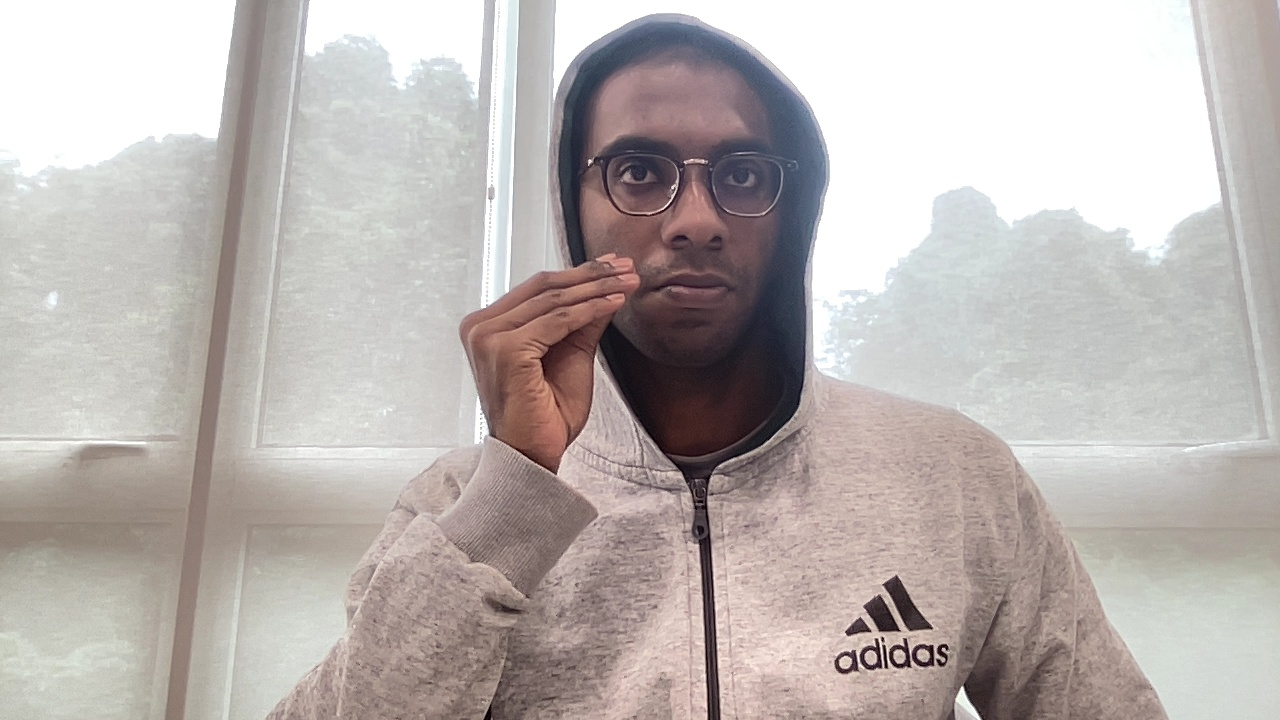eat: (454, 247, 646, 431)
